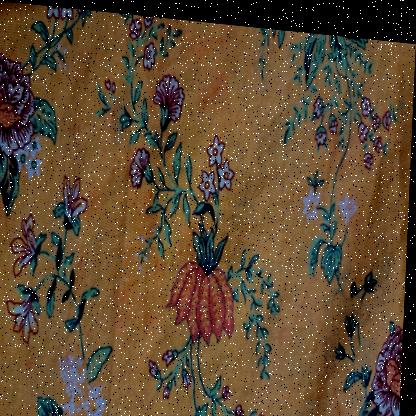spot: (167, 16, 241, 76), (109, 274, 147, 337), (192, 59, 227, 118), (146, 255, 170, 339), (175, 215, 206, 267), (74, 250, 94, 294), (82, 181, 111, 211), (105, 99, 126, 138), (75, 41, 93, 81), (27, 346, 43, 376)
